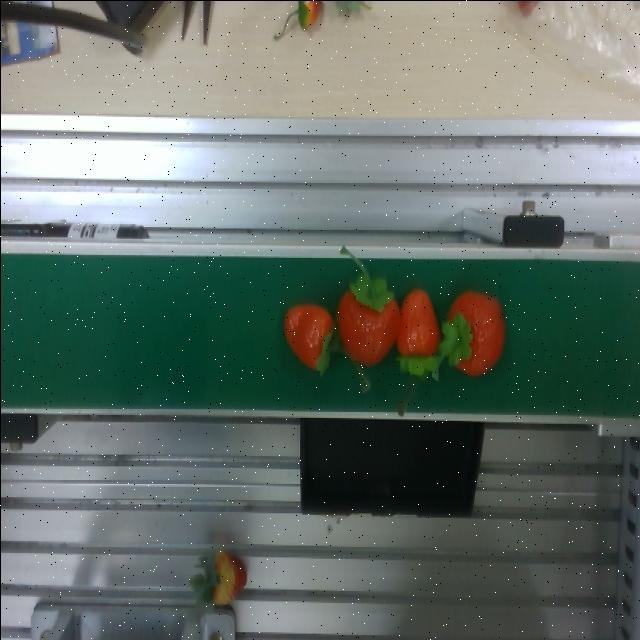Large Ripe Strawberry: (440, 284, 508, 384), (336, 273, 396, 377)
Small Ripe Strawberry: (394, 285, 439, 383), (278, 299, 332, 377)
conveyor: (0, 238, 640, 423)
